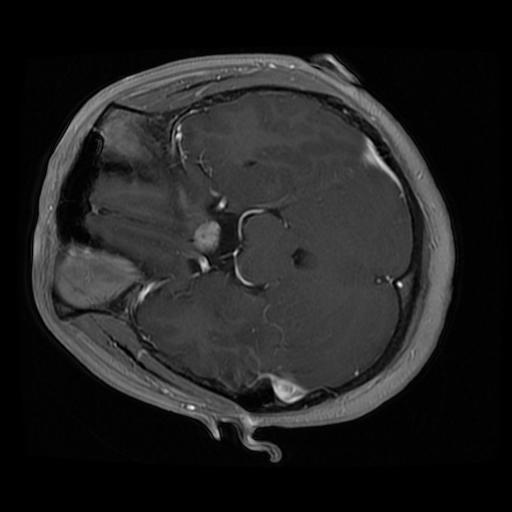pituitary tumour: (193, 220, 220, 254)
